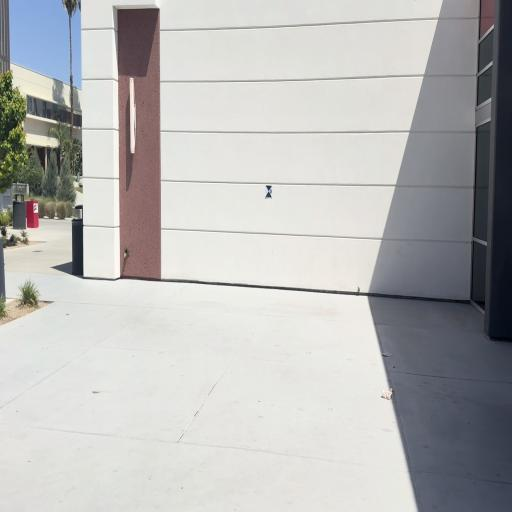target0: (266, 186, 272, 198)
